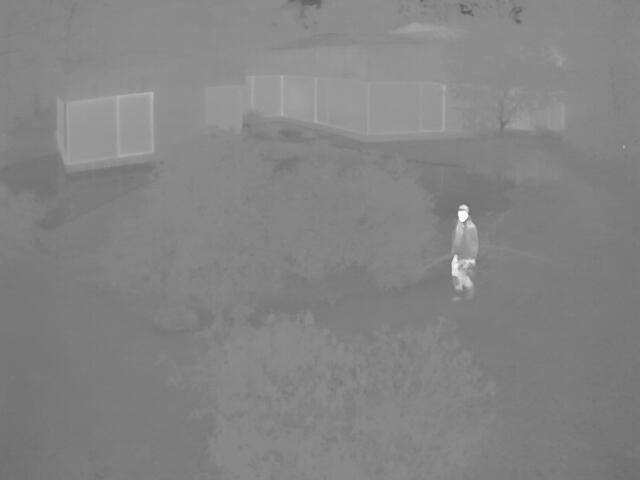person: (449, 204, 476, 300)
